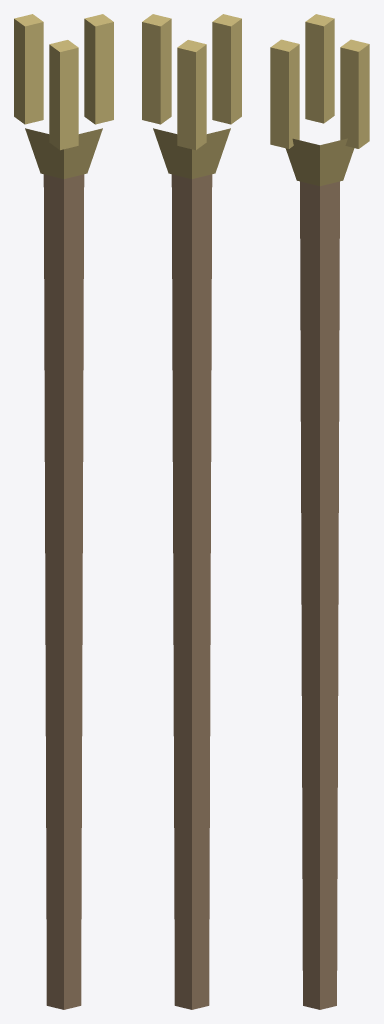
Rendered from player_staff.glb.
3 views of the same model, side by side, from view 1: azimuth 30°, elevation 25°; view 2: azimuth 150°, elevation 25°; view 3: azimuth 330°, elevation 25° (orthographic).
Visible parts, largest first — view 1: player_staff; view 2: player_staff; view 3: player_staff.
Boxes of the visible parts, x1,y1,x2,y2 form: player_staff: [14, 14, 113, 1009]; player_staff: [142, 14, 241, 1009]; player_staff: [270, 14, 369, 1009].
Bounding box in the file's own units: 0.107 × 1.19 × 0.1019.
